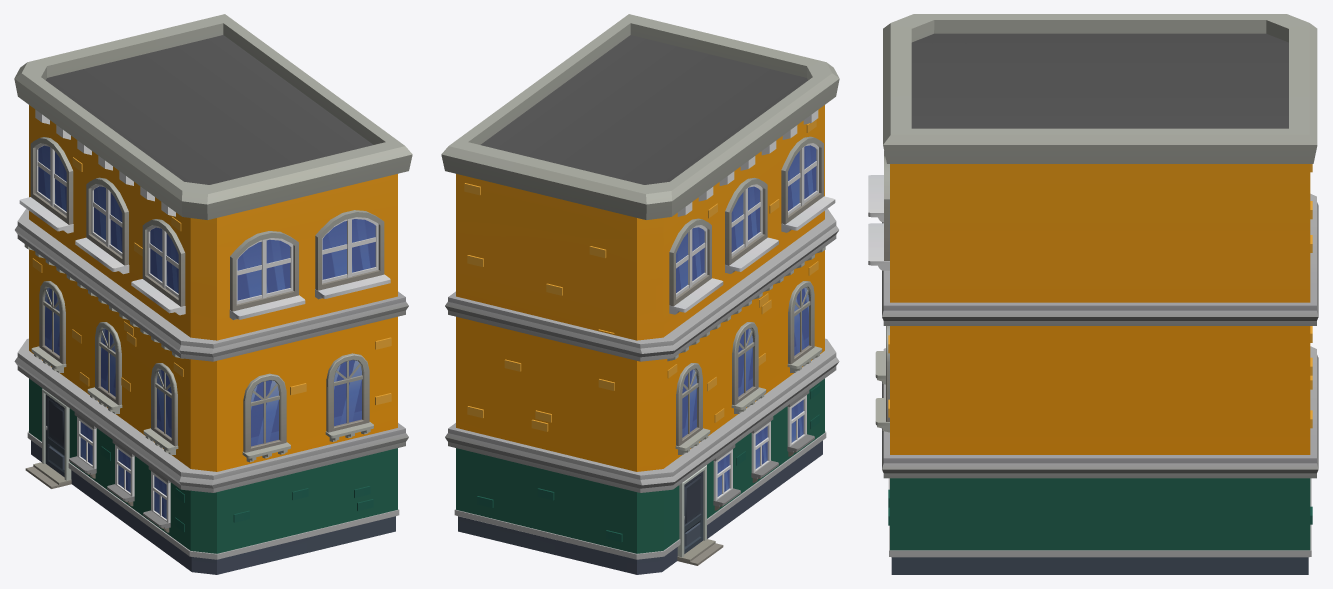
The model's file is Building_18_3_F.fbx.
The picture shows the model from 3 angles, left to right: view 1: azimuth 30°, elevation 25°; view 2: azimuth 150°, elevation 25°; view 3: azimuth 270°, elevation 25°; orthographic projection. The views are drawn at different scales.
Parts seen in each view (by area): view 1: Building_18_3_F; view 2: Building_18_3_F; view 3: Building_18_3_F.
Boxes of the visible parts, <box> form: Building_18_3_F: <box>14,14,412,574</box>; Building_18_3_F: <box>441,14,839,574</box>; Building_18_3_F: <box>868,14,1318,574</box>.
Bounding box in the file's own units: 719 × 1156 × 1059.
